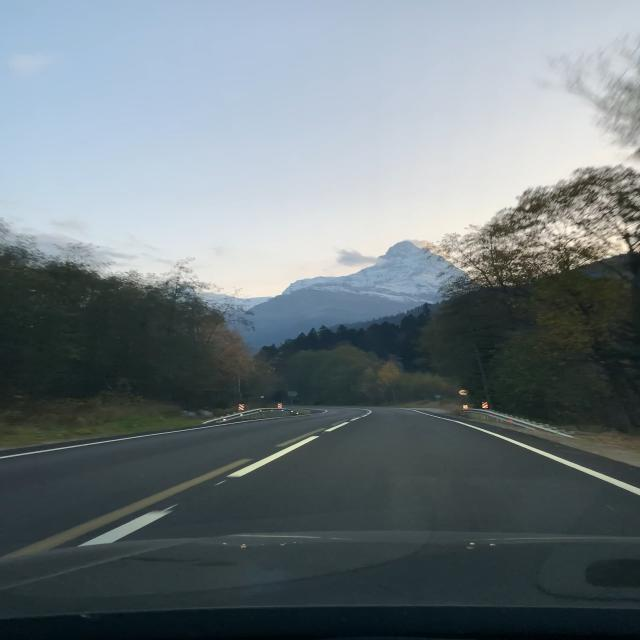asphalt: (0, 407, 640, 556)
